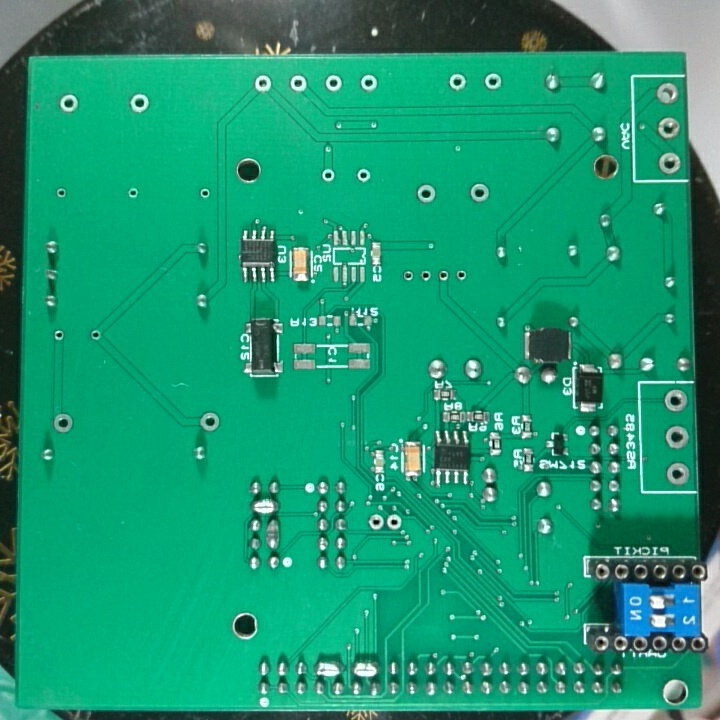F: (662, 387, 690, 417), (466, 178, 492, 207), (665, 460, 692, 487), (656, 115, 682, 143), (654, 79, 680, 107), (663, 423, 689, 450), (657, 149, 682, 177), (50, 410, 75, 437), (127, 90, 151, 118), (250, 71, 276, 96), (56, 91, 81, 117), (197, 409, 222, 435), (413, 182, 439, 206), (322, 72, 346, 96), (286, 72, 311, 95), (364, 510, 386, 535), (446, 71, 468, 94), (358, 72, 380, 94), (385, 510, 404, 535), (451, 265, 471, 288), (433, 265, 452, 288), (416, 264, 434, 288), (354, 165, 374, 186), (482, 72, 503, 91), (318, 166, 337, 186), (399, 266, 417, 286), (53, 183, 70, 203), (125, 183, 142, 203), (86, 324, 103, 344), (197, 185, 214, 203), (52, 326, 67, 345)
P: (348, 656, 380, 680), (262, 515, 283, 551), (311, 657, 345, 679), (249, 495, 280, 515)
